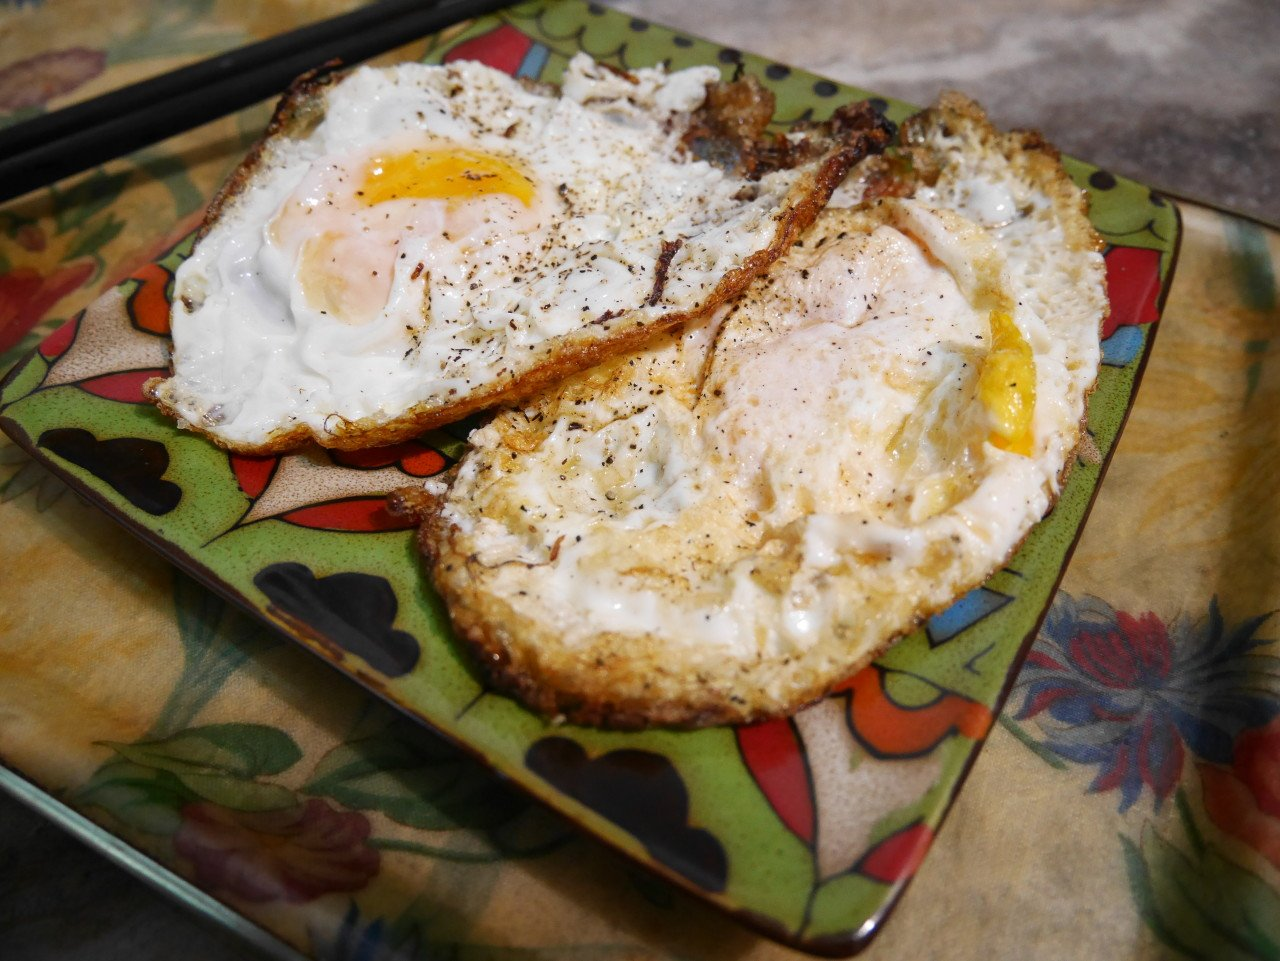gyelanhulai: (164, 29, 1114, 744)
